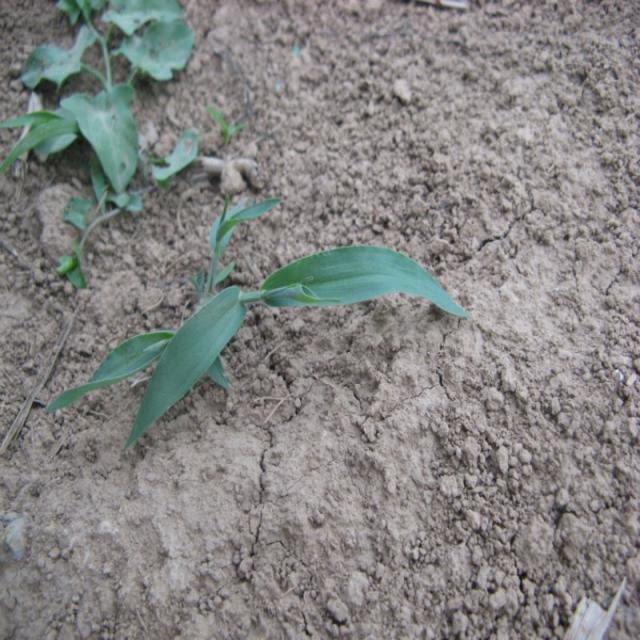bg: (48, 199, 473, 445)
